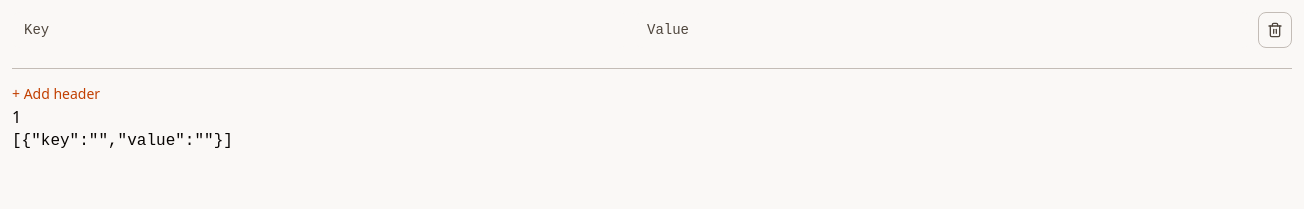
Test case: Playground REST — HeadersEditor › removes one of multiple header rows
Type "Accept" into the field named "Header key" at (320, 30), box x1=12 y1=12 x2=627 y2=48
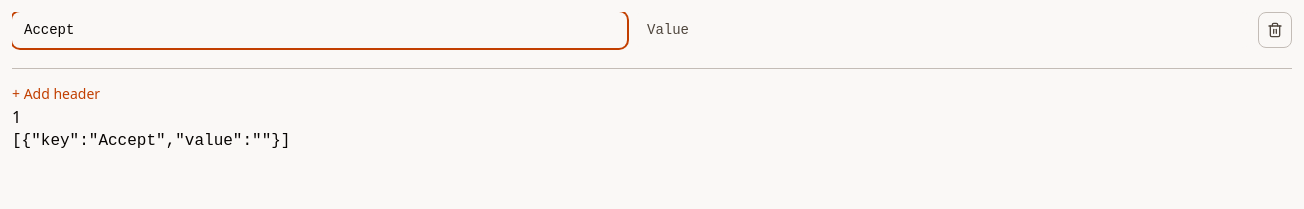
Click the button "+ Add header" at (56, 94), box x1=12 y1=84 x2=100 y2=104
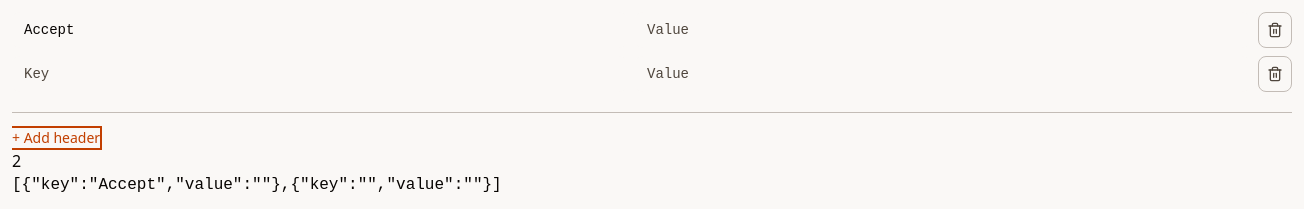
Type "Content-Type" into the field named "Header key" at (320, 74), box x1=12 y1=56 x2=627 y2=92
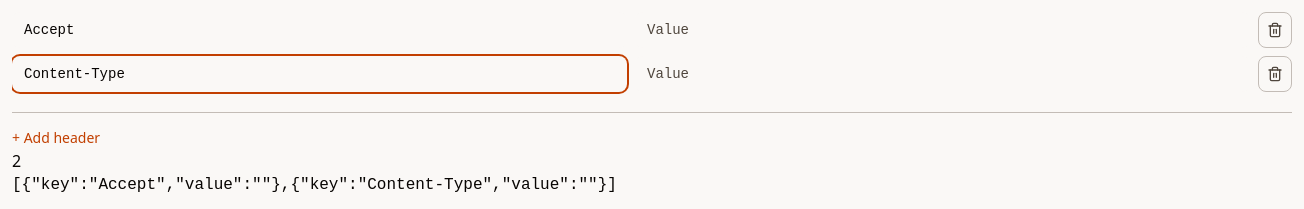
Expected: the text with test id "row-count" reads "2", x1=12 y1=150 x2=21 y2=172
Click the 1st button named "Remove header row" at (1275, 30), box x1=1258 y1=12 x2=1292 y2=48
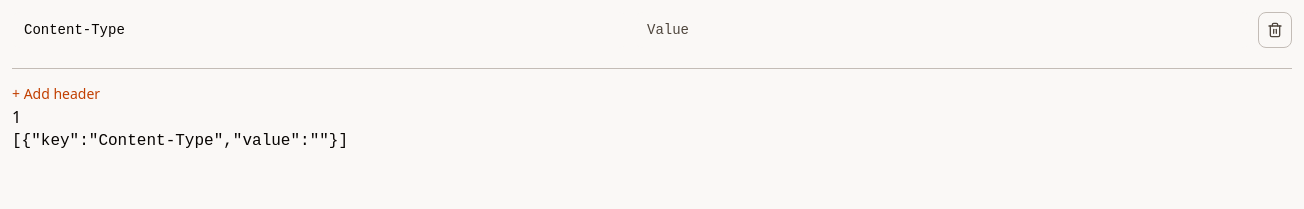
Expected: the text with test id "row-count" reads "1", x1=12 y1=106 x2=21 y2=128
